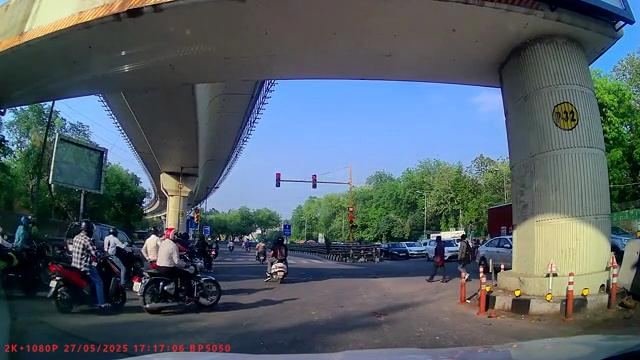motorcycle_with_helmet: (46, 219, 128, 313), (135, 226, 222, 314), (263, 236, 290, 283)
